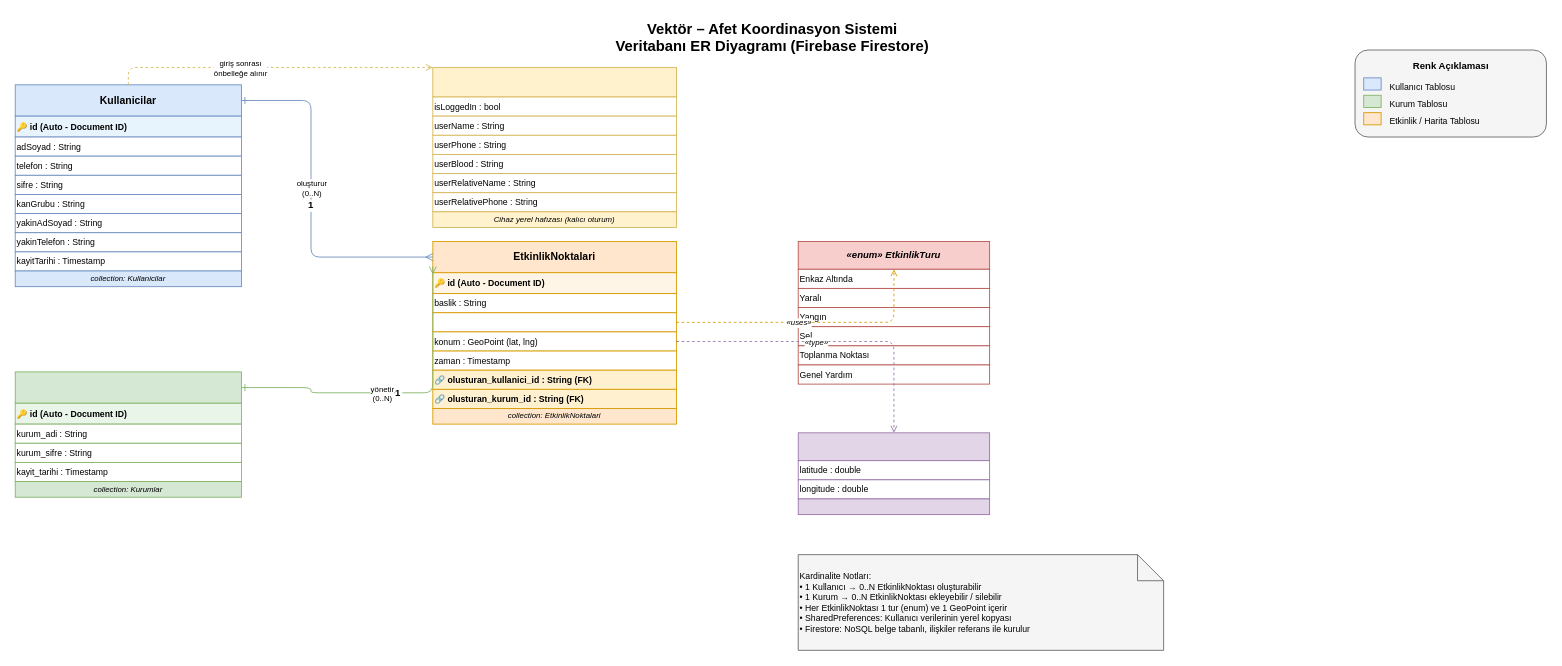
Image size: 1562x666. Some labels were removed from this diagram. Each missing label, with the centre of its shape:
"Firebase GeoPoint (Firestore built-in)" goes at (x=893, y=506).
"Kurumlar" goes at (x=127, y=387).
"SharedPreferences (Yerel Depo)" goes at (x=554, y=82).
"tur : String ← enum değeri" goes at (x=554, y=322).
"«type» GeoPoint" goes at (x=893, y=446).
